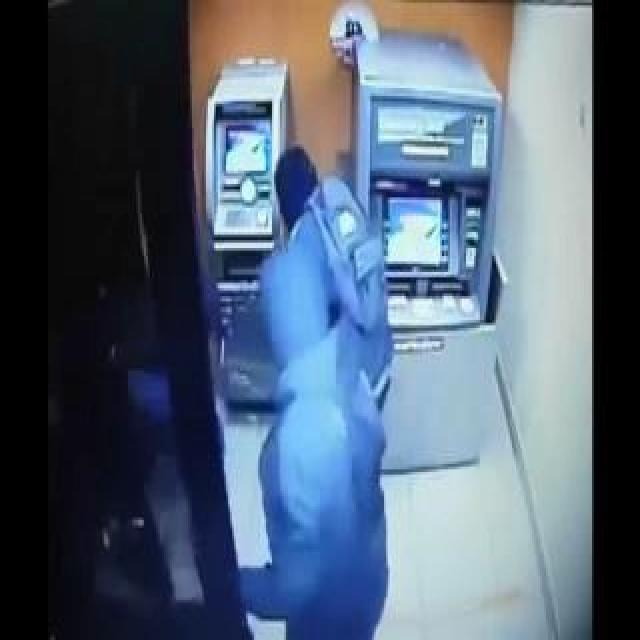thief: (270, 325, 379, 540), (252, 139, 328, 250)
